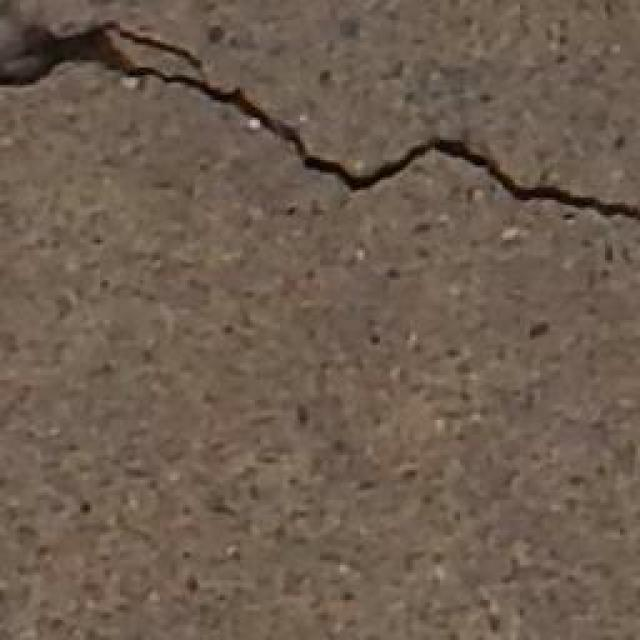concrete-crack: (2, 4, 640, 220)
